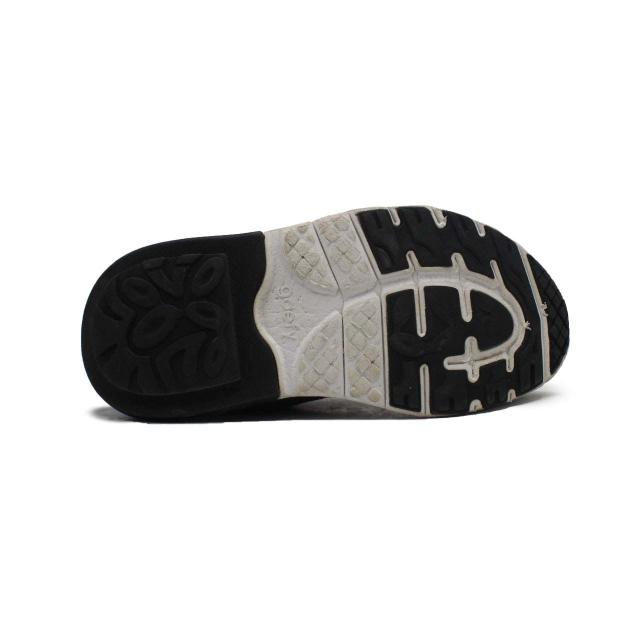outersole: (80, 210, 572, 420)
